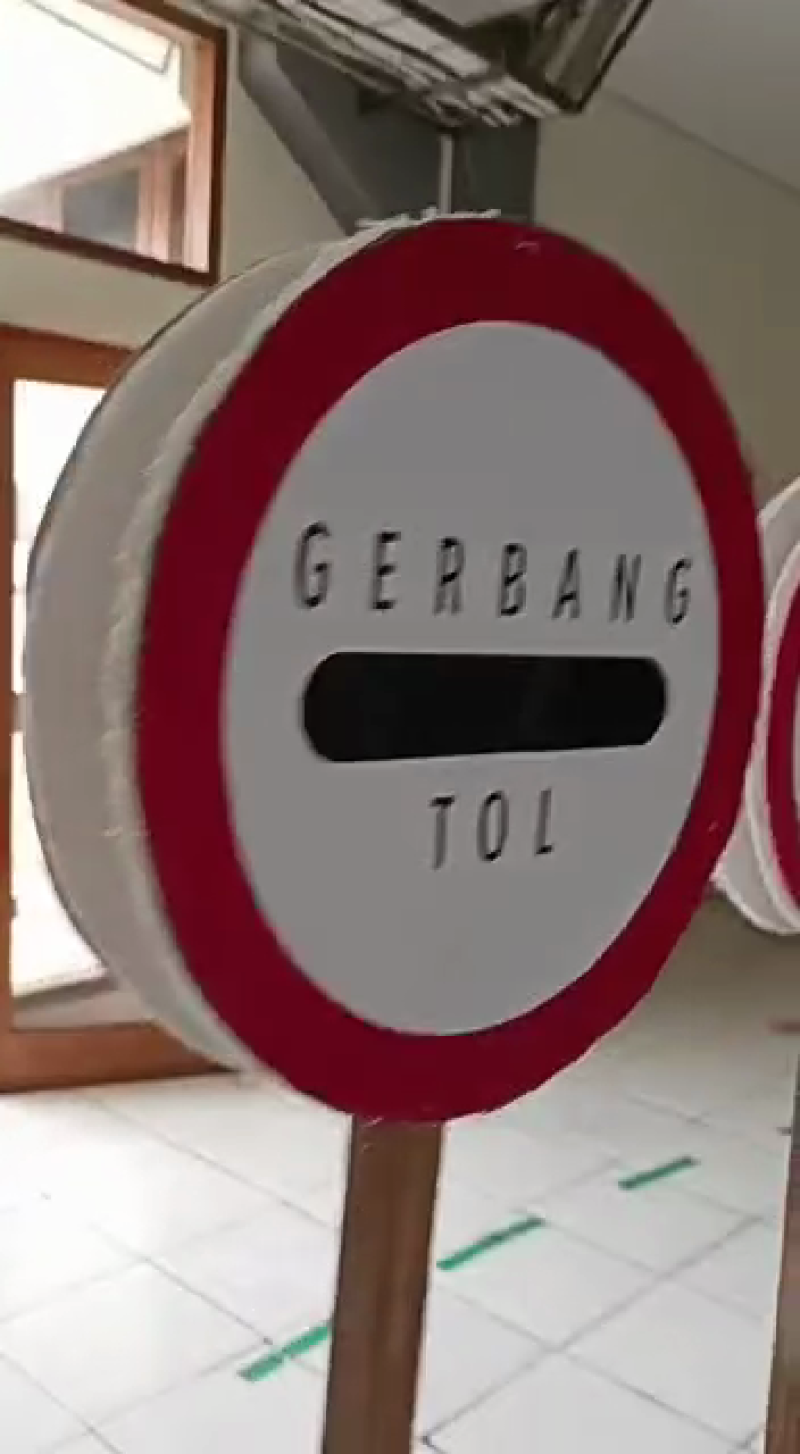gerbang tol: (101, 212, 762, 1124)
